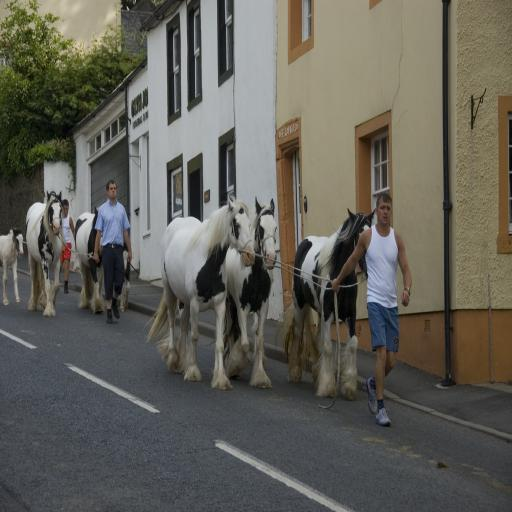horse: (142, 193, 256, 392), (280, 205, 378, 397), (208, 199, 278, 386), (26, 188, 66, 318), (72, 204, 102, 314), (0, 228, 24, 305), (122, 242, 131, 316)
